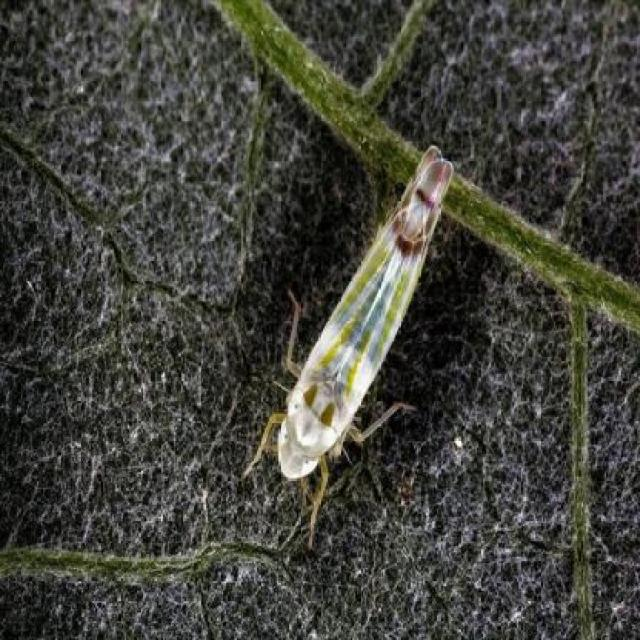green-leafhopper: (241, 140, 453, 538)
